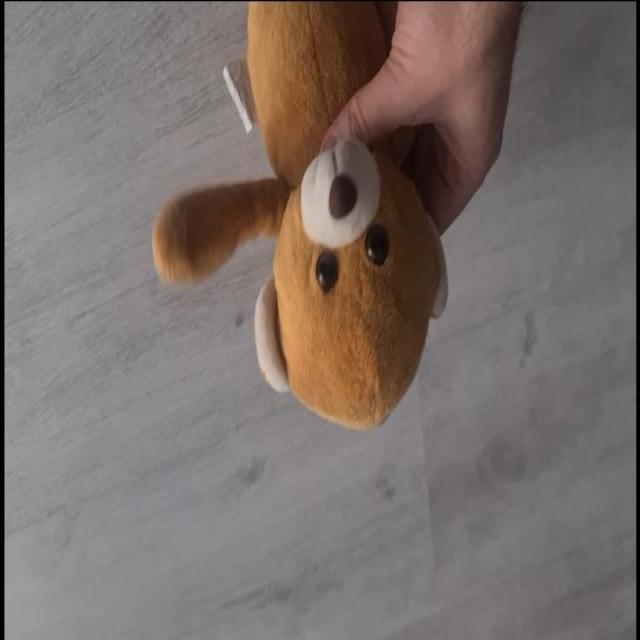soft-toy: (156, 5, 446, 429)
